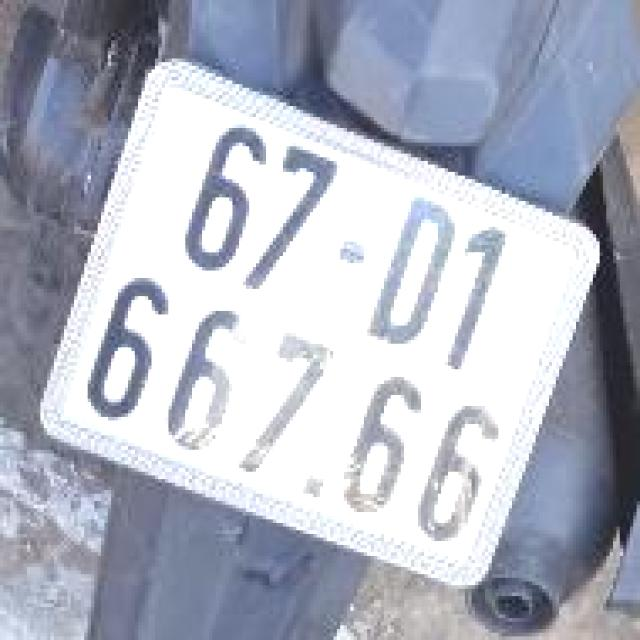1: (428, 214, 529, 384)
6: (170, 113, 287, 287), (150, 294, 265, 463), (329, 362, 445, 525), (76, 265, 187, 428), (411, 391, 521, 552)
7: (231, 133, 357, 305), (224, 316, 349, 486)
D: (359, 183, 475, 358)
